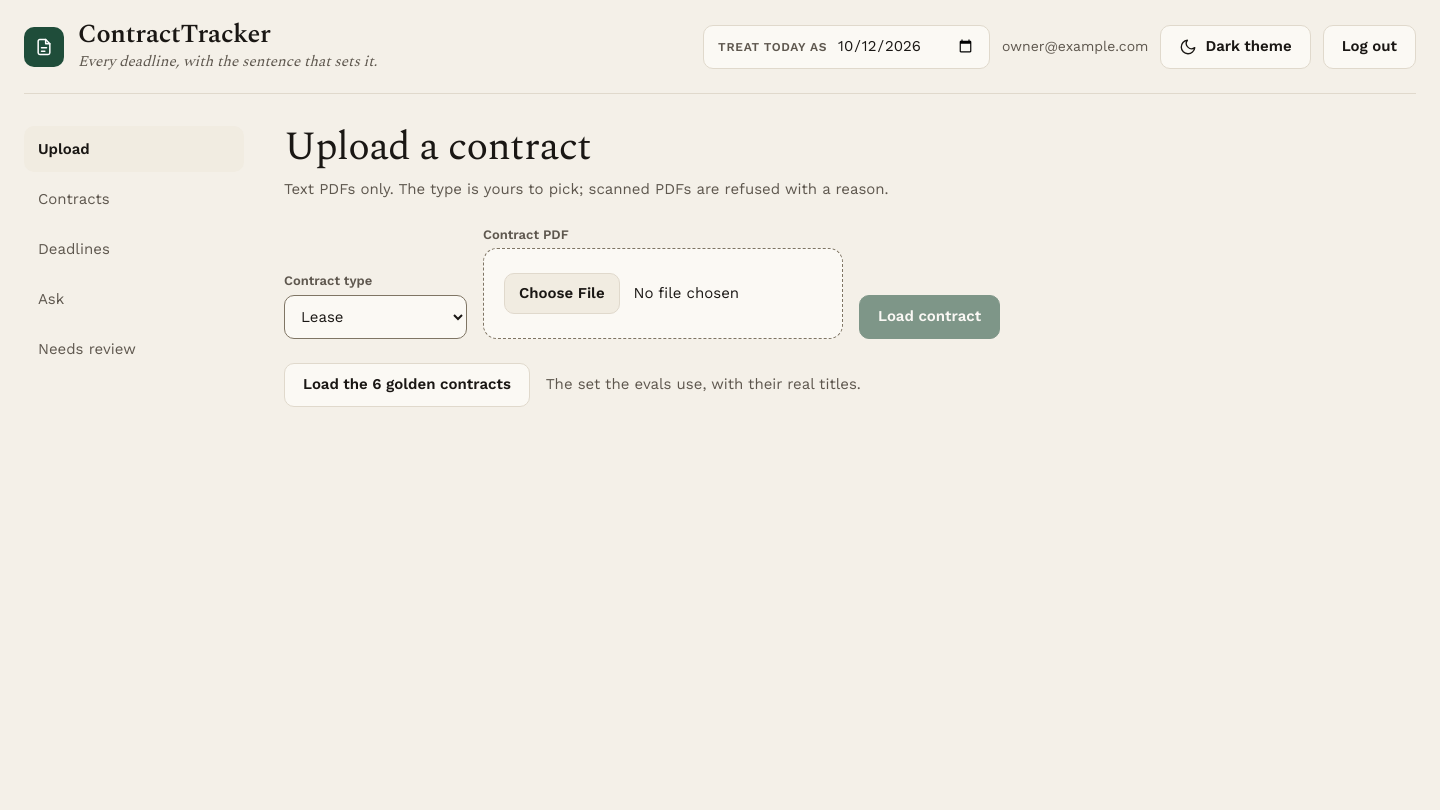
it: the page › TC-0120: deadlines are listed soonest first with contract and clause
Expected: the tab "Upload" is shown, left=24, top=126, right=244, bottom=172
Step 1. Click the tab "Deadlines" → click(134, 249), box left=24, top=226, right=244, bottom=272
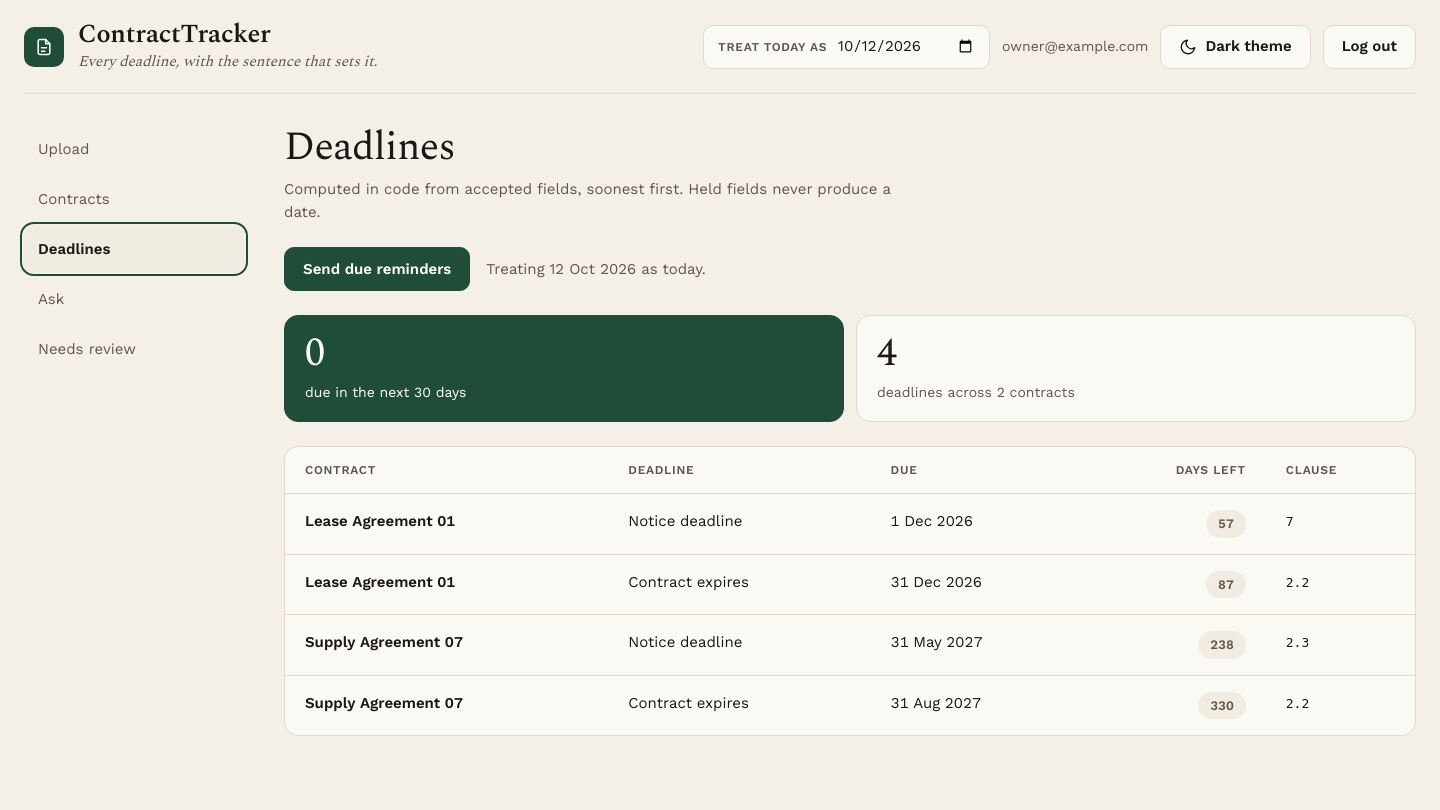
Expected: the column heading "Lease Agreement 01" in the row of "57" is shown, left=305, top=512, right=455, bottom=530
Expected: the text "Notice deadline" in the row of "57" is shown, left=628, top=512, right=742, bottom=530
Expected: the text "1 Dec 2026" is shown, left=871, top=494, right=1086, bottom=554
